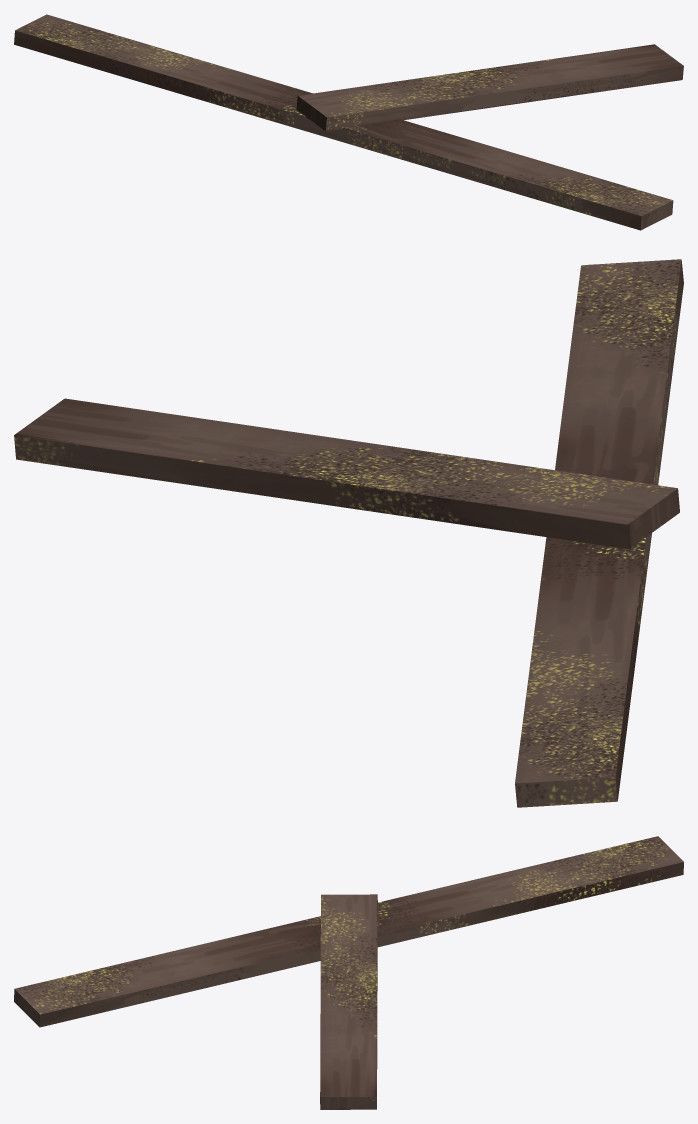
Rendered from Debris02.fbx.
3 renders of one model, top to bottom at view 1: azimuth 30°, elevation 25°; view 2: azimuth 150°, elevation 25°; view 3: azimuth 270°, elevation 25°, orthographic. The views are drawn at different scales.
Parts seen in each view (by area): view 1: Debris02; view 2: Debris02; view 3: Debris02.
Part boxes in pixels (bbox=[...]): Debris02: bbox=[14, 14, 683, 230]; Debris02: bbox=[14, 259, 683, 807]; Debris02: bbox=[14, 836, 683, 1109].
Bounding box in the file's own units: 3.57 × 0.3381 × 4.31.
Materials: 1 (1 with a texture image).
